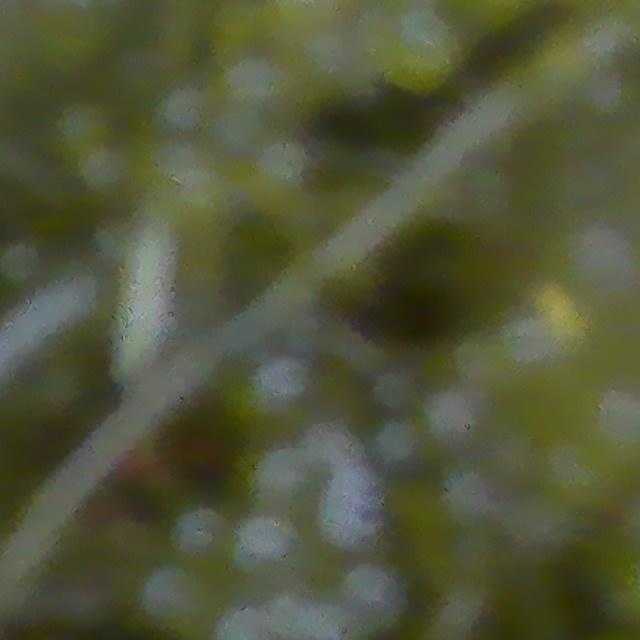SeaGrape: (134, 559, 218, 640), (338, 561, 406, 631), (230, 509, 299, 572), (169, 504, 229, 563)
